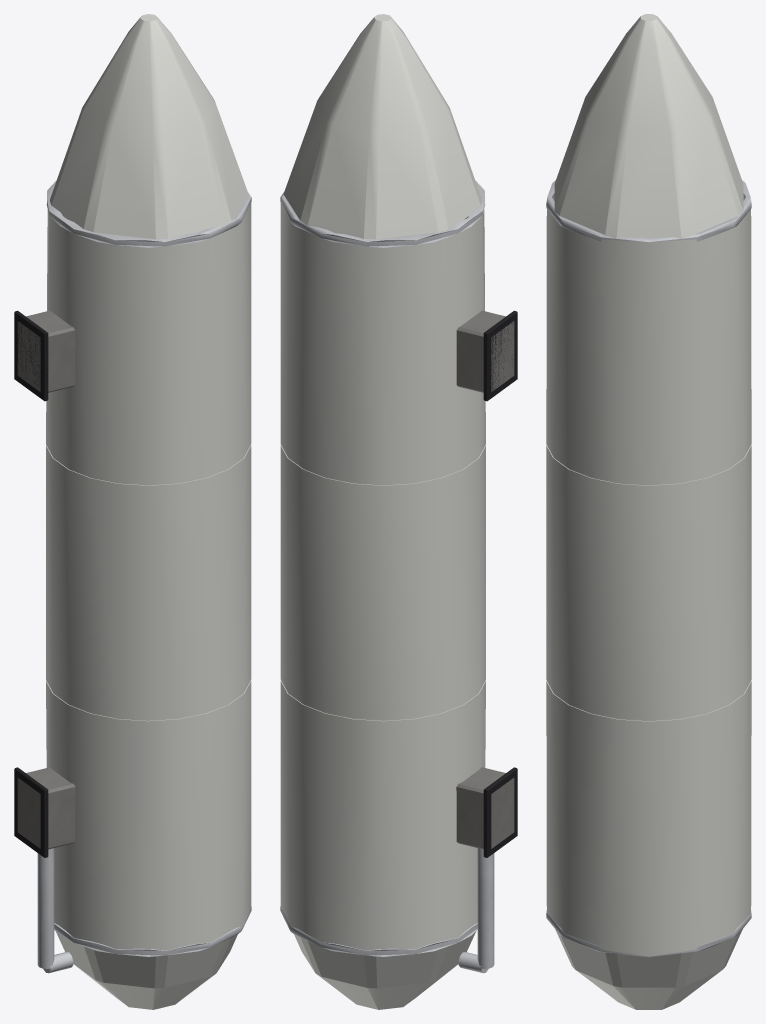
Rendered from ax_tank_09_radial_drop_m.glb.
3 views of the same model, side by side, from view 1: azimuth 30°, elevation 25°; view 2: azimuth 150°, elevation 25°; view 3: azimuth 270°, elevation 25° (orthographic).
Parts seen in each view (by area): view 1: tank_barrel, nose_cap, pylons, tail_cone, end_rings, separation_fittings, feed_line; view 2: tank_barrel, nose_cap, pylons, tail_cone, end_rings, separation_fittings, feed_line; view 3: tank_barrel, nose_cap, tail_cone, end_rings.
Boxes of the visible parts, x1,y1,x2,y2 form: tank_barrel: [46, 203, 251, 950]; nose_cap: [49, 14, 248, 239]; pylons: [17, 310, 75, 849]; tail_cone: [55, 931, 237, 1009]; end_rings: [46, 180, 251, 956]; separation_fittings: [14, 310, 48, 857]; feed_line: [37, 848, 73, 973]; tank_barrel: [280, 203, 485, 950]; nose_cap: [283, 14, 482, 239]; pylons: [456, 310, 514, 849]; tail_cone: [294, 931, 476, 1009]; end_rings: [280, 180, 485, 956]; separation_fittings: [483, 310, 517, 857]; feed_line: [458, 848, 494, 973]; tank_barrel: [546, 209, 751, 956]; nose_cap: [554, 14, 743, 238]; tail_cone: [555, 929, 742, 1009]; end_rings: [546, 180, 751, 957].
Bounding box in the file's own units: 2.94 × 13.16 × 2.5.
4 materials, 2 textured.
